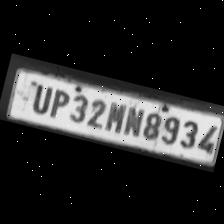2: (83, 94, 108, 128)
3: (176, 114, 202, 150), (64, 88, 90, 123)
4: (194, 118, 220, 154)
8: (138, 106, 164, 142)
9: (156, 110, 182, 144)
M: (101, 96, 126, 132)
N: (121, 102, 145, 137)
P: (45, 83, 71, 118)
U: (25, 78, 54, 114)
